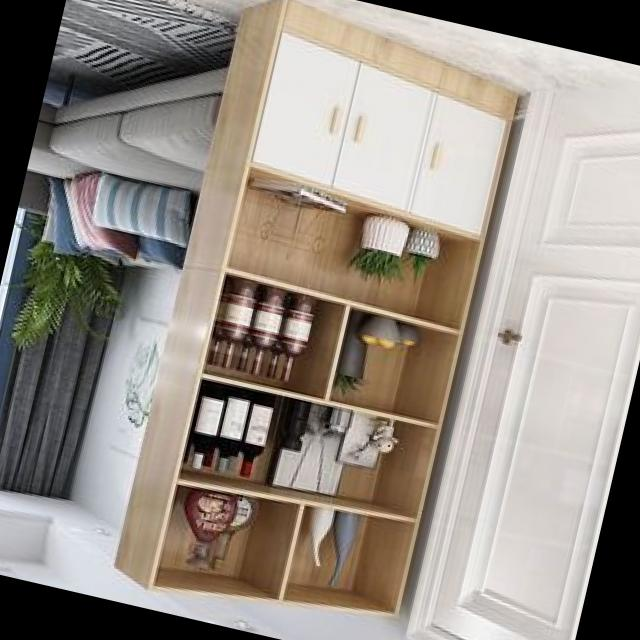Shelf: (105, 5, 532, 640)
